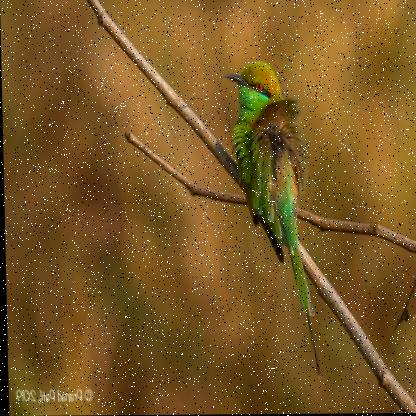Burung: (222, 59, 320, 379)
